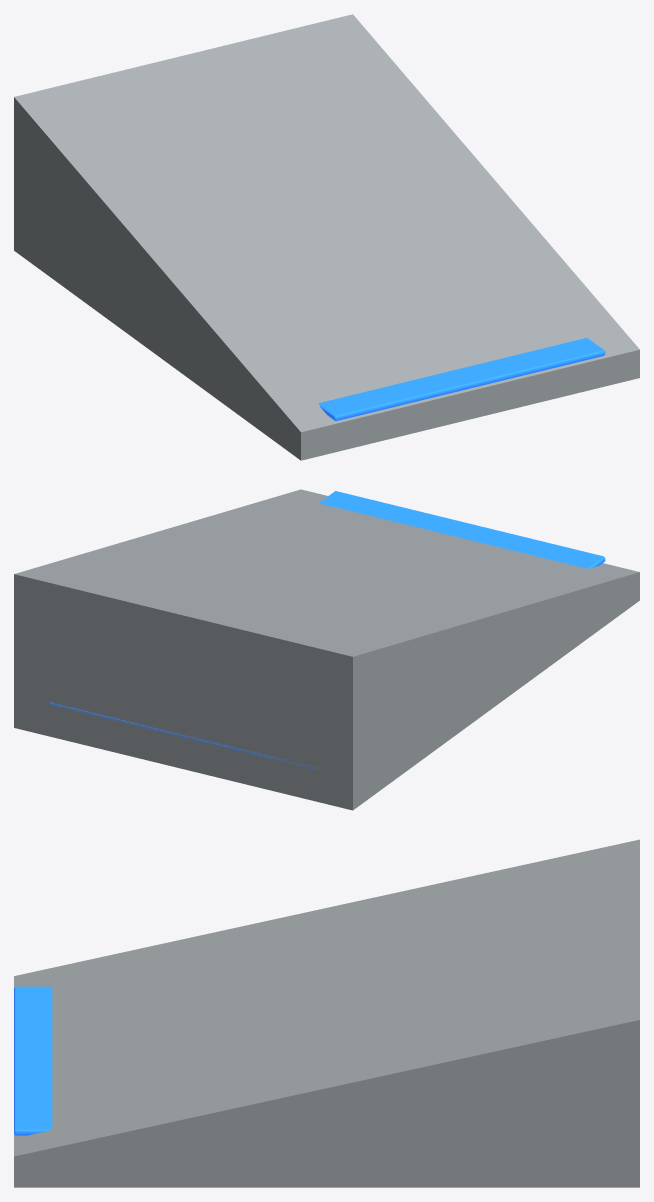
Rendered from Ramp_Standard.fbx.
3 views of the same model, one above another, from view 1: azimuth 30°, elevation 25°; view 2: azimuth 150°, elevation 25°; view 3: azimuth 270°, elevation 25° (orthographic). The views are drawn at different scales.
Parts seen in each view (by area): view 1: Ramp solid.001, Top stripe.001; view 2: Ramp solid.001, Top stripe.001; view 3: Ramp solid.001, Top stripe.001.
Part boxes in pixels (x1,y1,x2,y2): Ramp solid.001: [14, 14, 639, 460]; Top stripe.001: [319, 338, 605, 421]; Ramp solid.001: [14, 489, 639, 810]; Top stripe.001: [49, 491, 605, 769]; Ramp solid.001: [14, 839, 639, 1187]; Top stripe.001: [14, 986, 52, 1135].
Bounding box in the file's own units: 150 × 65 × 220.
